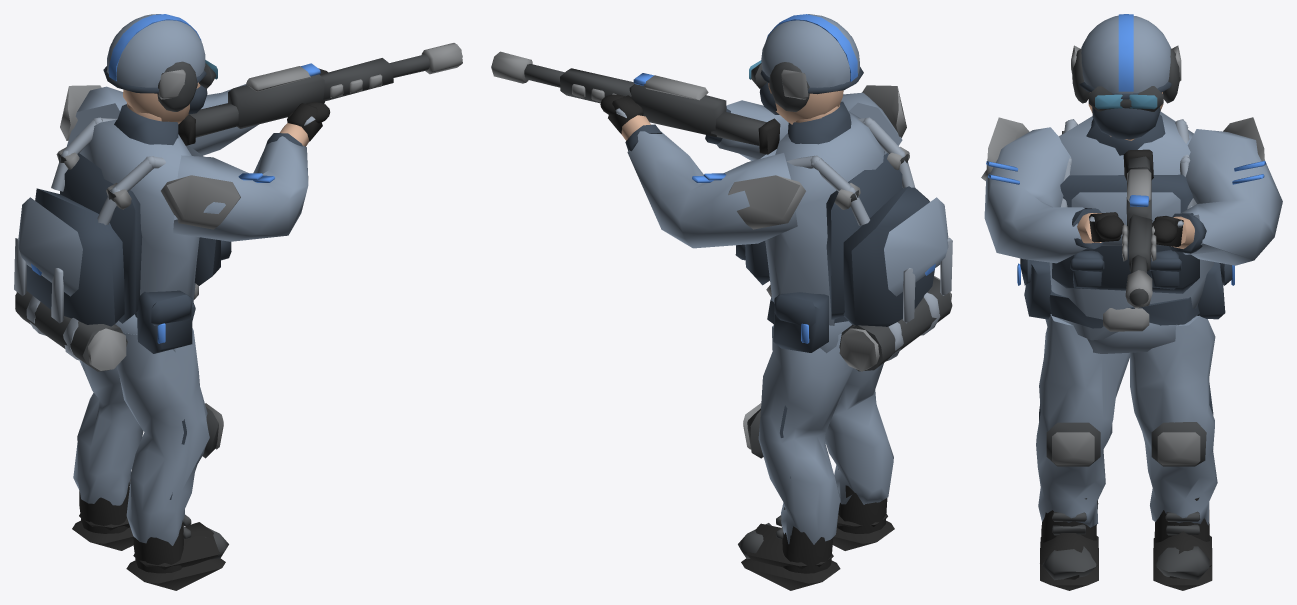
Rendered from rifleman.glb.
3 renders of one model, left to right at view 1: azimuth 30°, elevation 25°; view 2: azimuth 150°, elevation 25°; view 3: azimuth 270°, elevation 25°, orthographic. The views are drawn at different scales.
Visible parts, largest first — view 1: Torso, Arms, LegR, LegL; view 2: Torso, Arms, LegL, LegR; view 3: Torso, Arms, LegL, LegR.
Part boxes in pixels (bbox=[...]): Torso: bbox=[14, 14, 240, 499]; Arms: bbox=[66, 43, 462, 241]; LegR: bbox=[117, 328, 228, 590]; LegL: bbox=[72, 360, 143, 550]; Torso: bbox=[728, 14, 952, 478]; Arms: bbox=[491, 51, 902, 248]; LegL: bbox=[738, 326, 853, 590]; LegR: bbox=[825, 363, 894, 550]; Torso: bbox=[981, 14, 1265, 451]; Arms: bbox=[984, 127, 1282, 308]; LegL: bbox=[1130, 315, 1217, 590]; LegR: bbox=[1036, 314, 1130, 590].
Size of the model in its own units: 1.59 by 1.89 by 0.8963.
